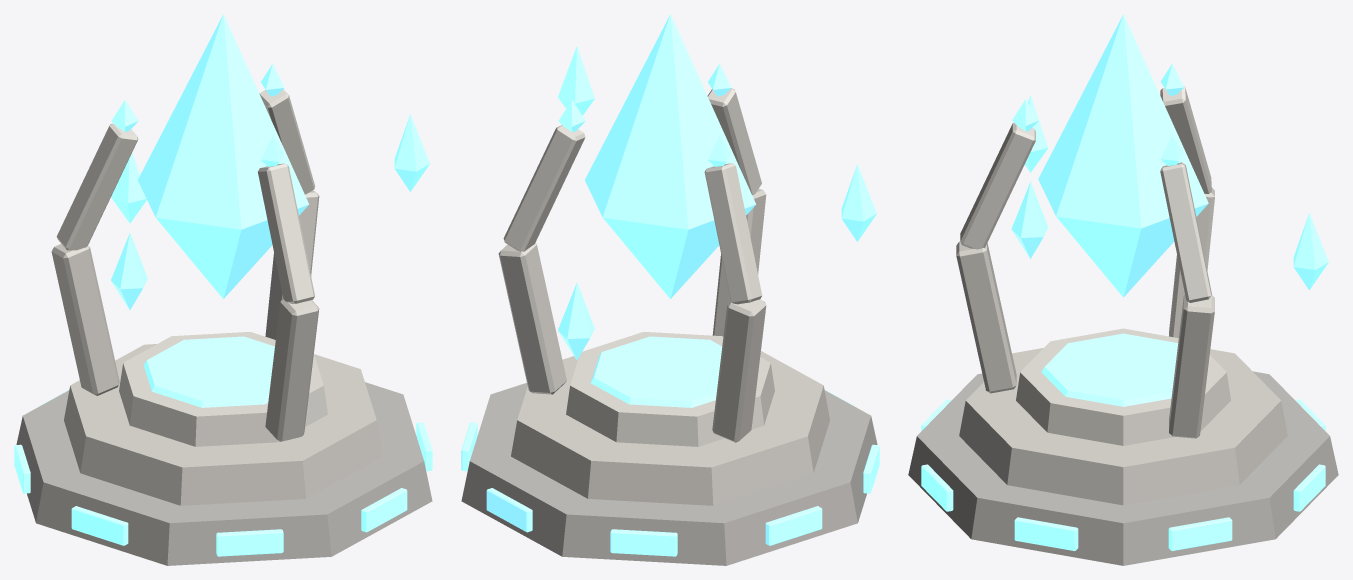
The model's file is prop_crystal.glb.
3 renders of one model, left to right at view 1: azimuth 30°, elevation 25°; view 2: azimuth 150°, elevation 25°; view 3: azimuth 270°, elevation 25°, orthographic.
Visible parts, largest first — view 1: prop_crystal; view 2: prop_crystal; view 3: prop_crystal.
Boxes of the visible parts, left/top/right/bottom form: prop_crystal: left=14, top=14, right=432, bottom=565; prop_crystal: left=461, top=14, right=879, bottom=565; prop_crystal: left=908, top=14, right=1338, bottom=565.
Size of the model in its own units: 2.2 by 2.6 by 2.2.
